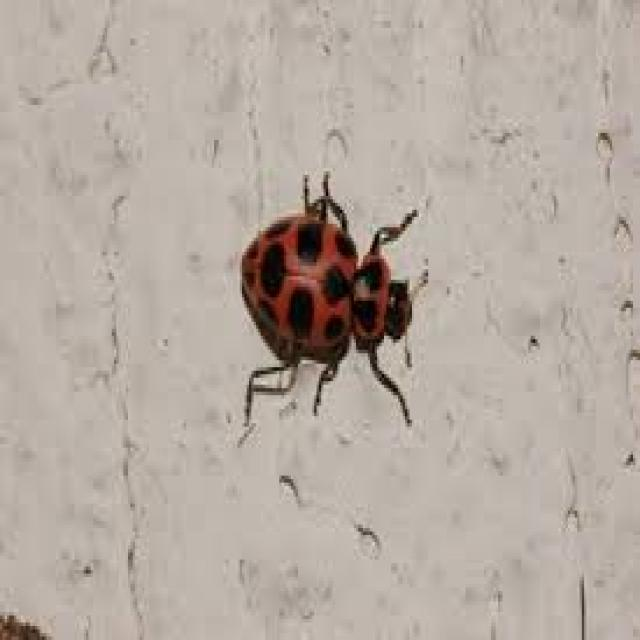bug: (237, 160, 437, 444)
